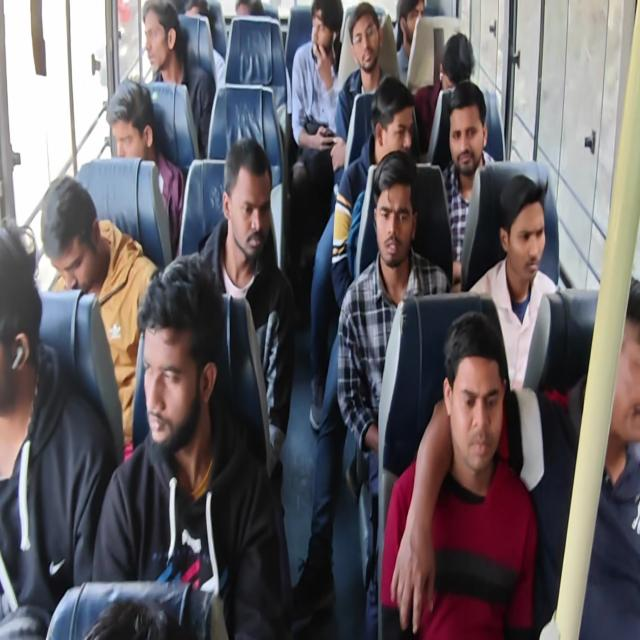person: (2, 1, 638, 638), (89, 252, 285, 638), (292, 73, 418, 615), (336, 150, 452, 628), (381, 310, 538, 638), (0, 216, 117, 638), (540, 276, 640, 638), (40, 175, 159, 460), (196, 136, 295, 476), (330, 75, 417, 308), (467, 174, 558, 392), (289, 0, 344, 261), (106, 78, 185, 258), (440, 80, 496, 288), (141, 0, 214, 157), (333, 1, 391, 175), (412, 31, 474, 158), (181, 0, 226, 92), (394, 0, 425, 83), (235, 0, 264, 16)
